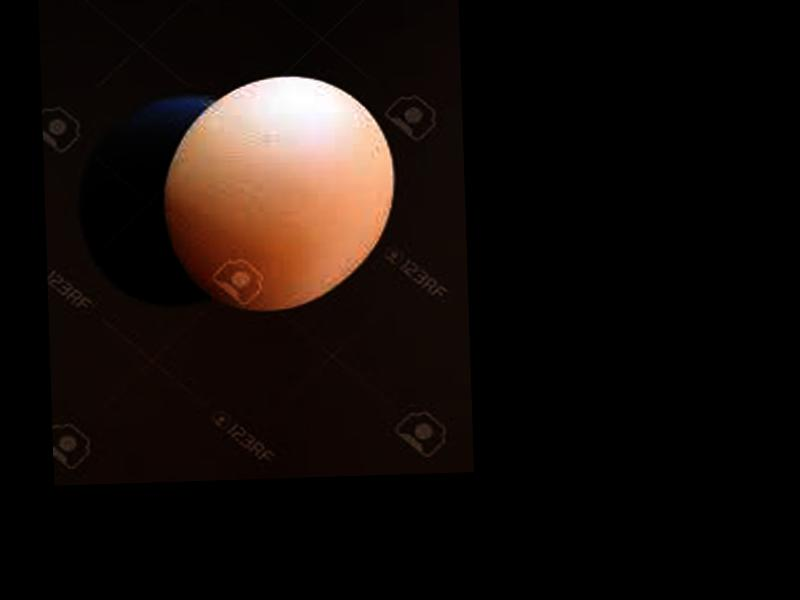Eggs: (157, 71, 399, 313)
